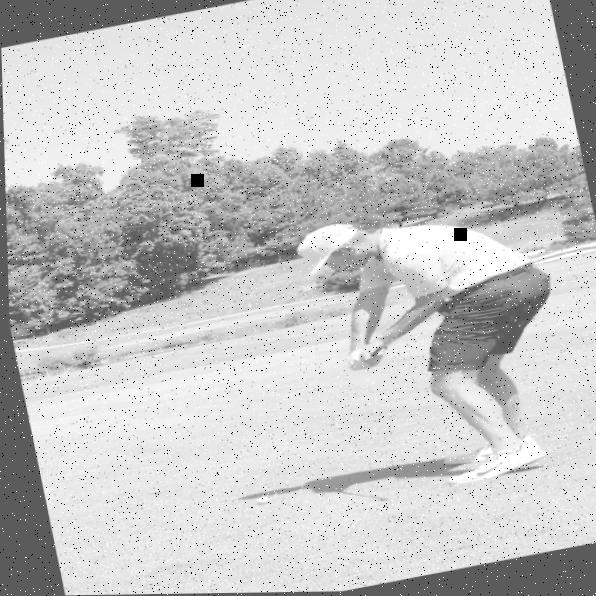ClubHead: (441, 279, 473, 298)
GolfBall: (253, 495, 270, 506)
